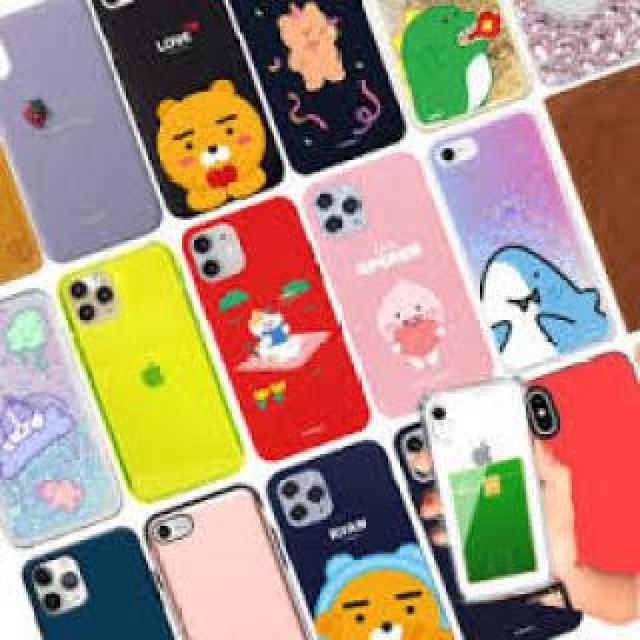smart phone: (462, 137, 626, 393), (73, 243, 222, 500), (318, 142, 465, 378), (192, 183, 310, 467), (237, 440, 395, 635), (27, 528, 145, 640)
